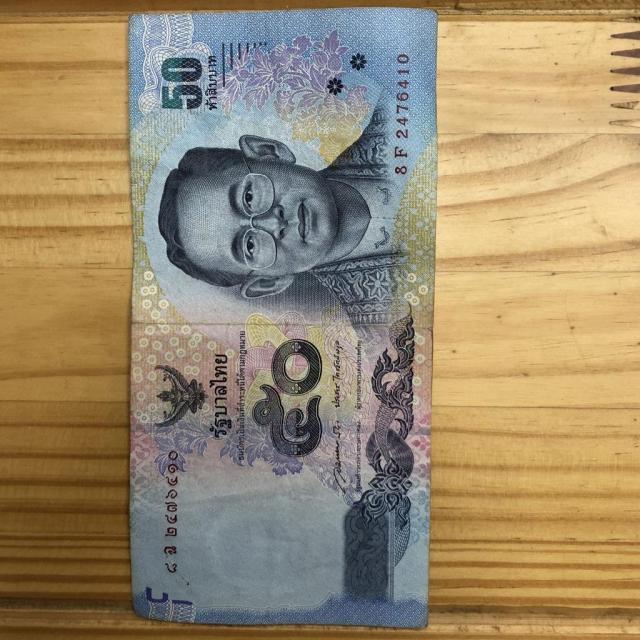THAI50: (122, 8, 439, 632)
